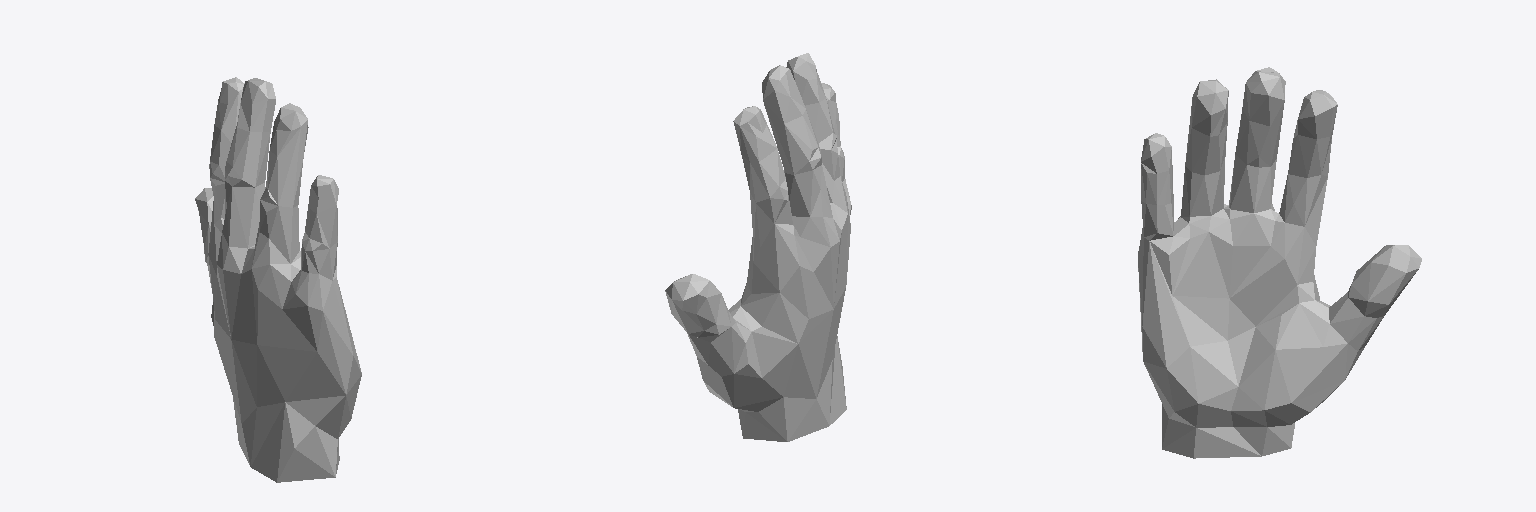
Rendered from hand.obj.
3 views of the same model, side by side, from view 1: azimuth 30°, elevation 25°; view 2: azimuth 150°, elevation 25°; view 3: azimuth 270°, elevation 25° (orthographic).
Visible parts, largest first — view 1: 16834_hand_v1_NEW; view 2: 16834_hand_v1_NEW; view 3: 16834_hand_v1_NEW.
Part boxes in pixels (x1,y1,x2,y2): 16834_hand_v1_NEW: (195,77,361,482); 16834_hand_v1_NEW: (665,53,851,441); 16834_hand_v1_NEW: (1138,67,1421,458).
Bounding box in the file's own units: 0.3639 × 1.22 × 0.8547.